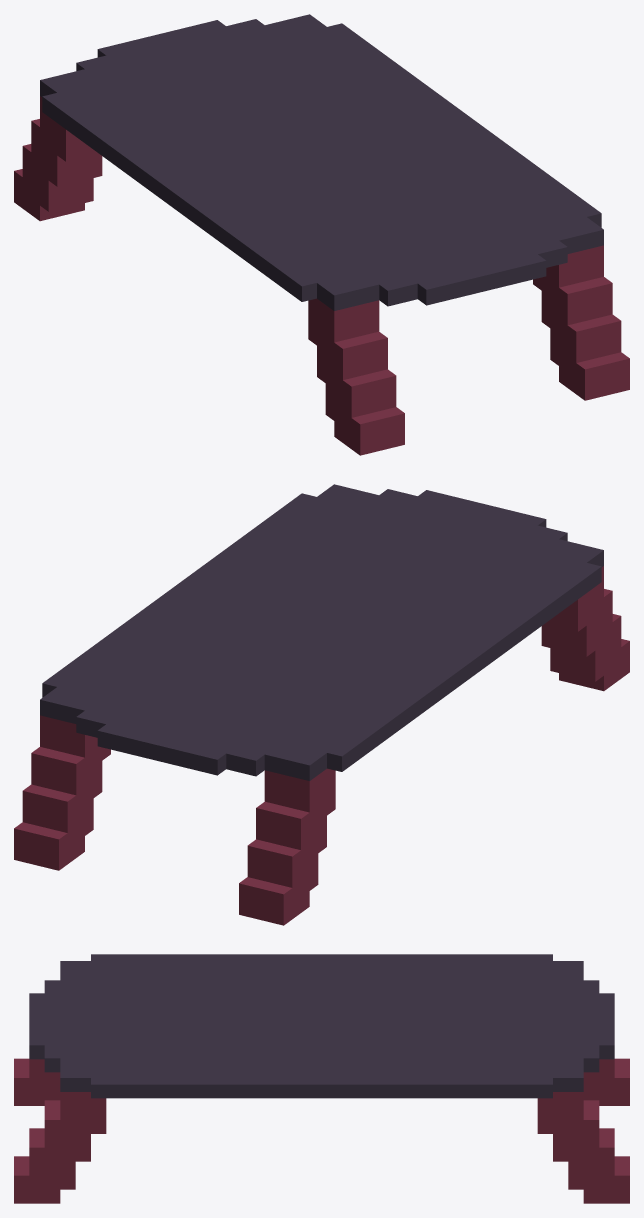
Rendered from biggertable.obj.
The picture shows the model from 3 angles, top to bottom: view 1: azimuth 30°, elevation 25°; view 2: azimuth 150°, elevation 25°; view 3: azimuth 270°, elevation 25°; orthographic projection. The views are drawn at different scales.
Bounding box in the file's own units: 2 × 0.9 × 4.
1 material, 1 textured.
